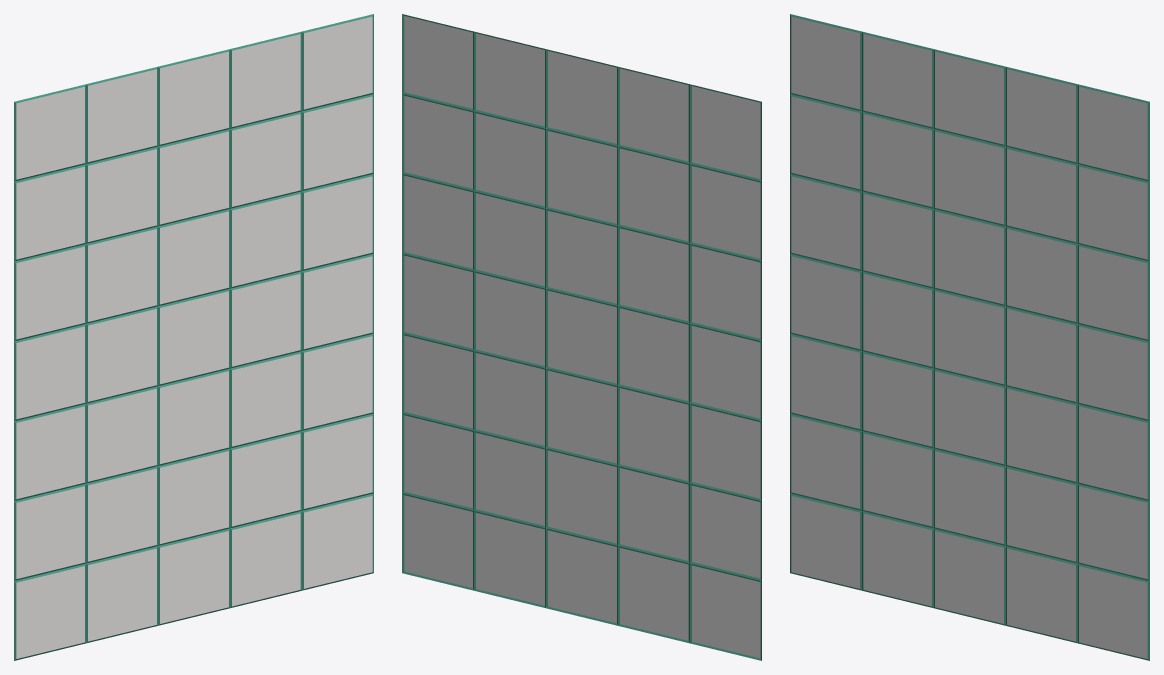
Rendered from Floortile_2.fbx.
3 renders of one model, left to right at view 1: azimuth 30°, elevation 25°; view 2: azimuth 150°, elevation 25°; view 3: azimuth 330°, elevation 25°, orthographic.
Visible parts, largest first — view 1: Floortile_2; view 2: Floortile_2; view 3: Floortile_2.
Boxes of the visible parts, box(x1,y1,x2,y2) form: Floortile_2: box(14, 14, 373, 660); Floortile_2: box(402, 14, 761, 660); Floortile_2: box(790, 14, 1149, 660).
Size of the model in its own units: 262 by 0.6003 by 390.
